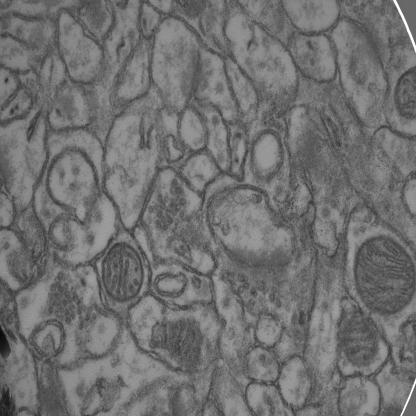mitochondria: (356, 236, 416, 317), (150, 317, 206, 369), (101, 240, 146, 302), (342, 312, 380, 368)
